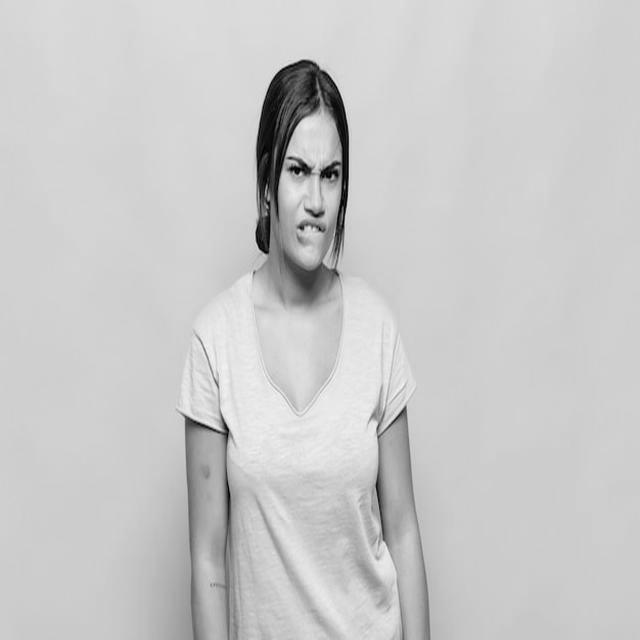Angry: (269, 115, 343, 272)
